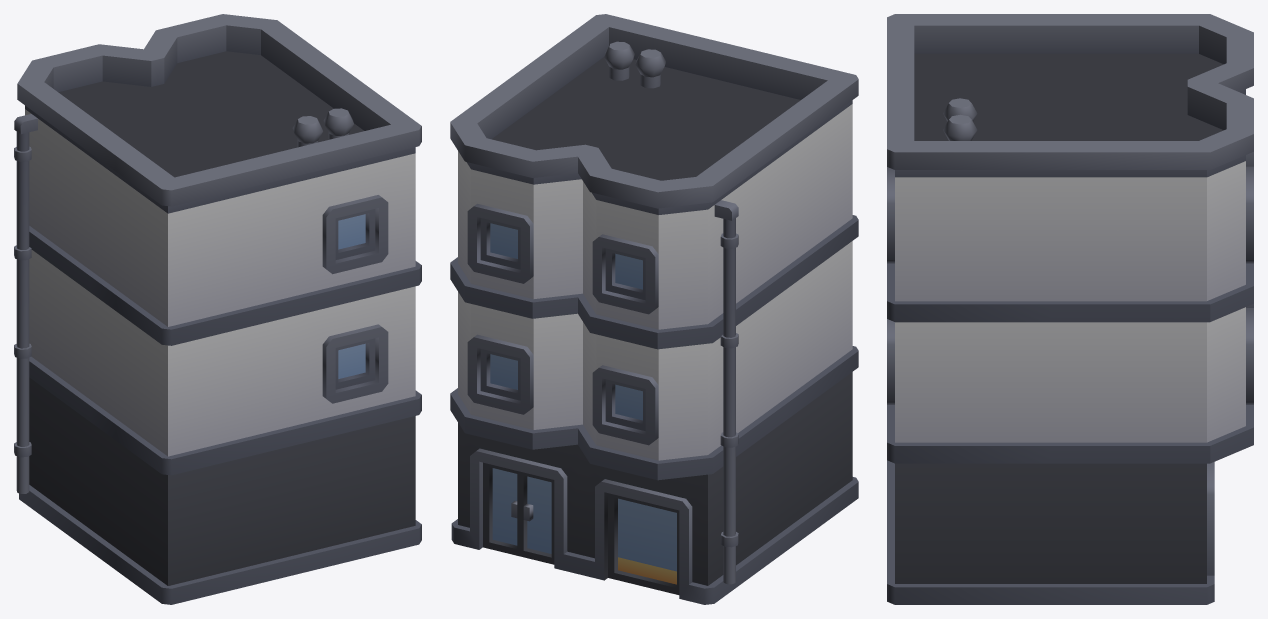
The model's file is apartment-01.glb.
3 views of the same model, side by side, from view 1: azimuth 30°, elevation 25°; view 2: azimuth 150°, elevation 25°; view 3: azimuth 270°, elevation 25° (orthographic). The views are drawn at different scales.
Visible parts, largest first — view 1: apartment-01; view 2: apartment-01; view 3: apartment-01.
Part boxes in pixels (bbox=[...]): apartment-01: bbox=[14, 14, 421, 604]; apartment-01: bbox=[450, 14, 858, 604]; apartment-01: bbox=[887, 14, 1253, 604].
Size of the model in its own units: 0.94 by 1.38 by 1.
